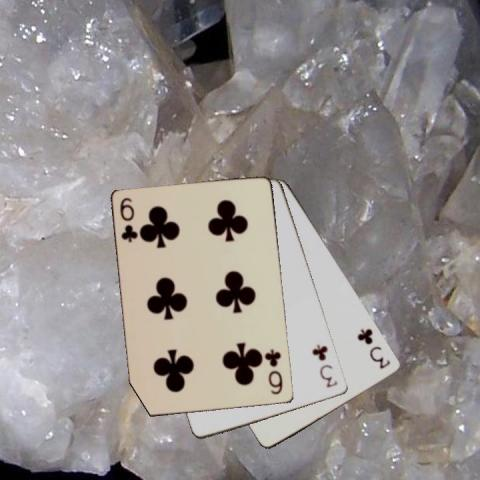3c: (355, 325, 392, 371), (310, 342, 340, 390)
6c: (263, 347, 285, 396), (118, 194, 139, 244)
